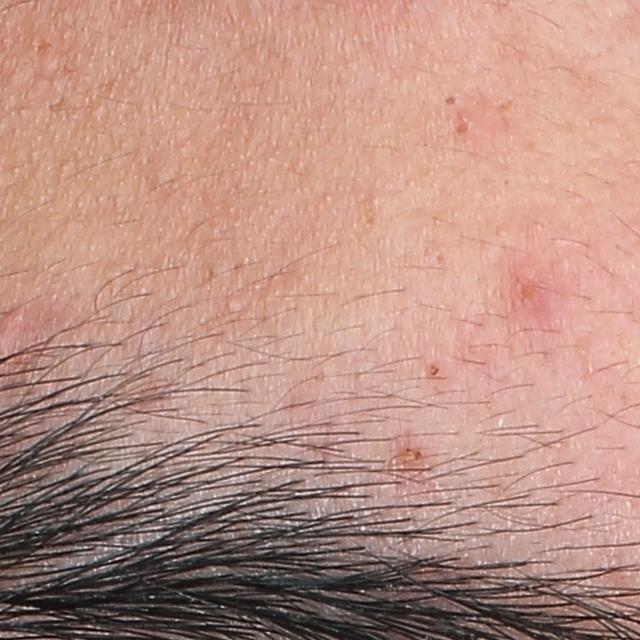comedo: (448, 115, 477, 142), (423, 361, 447, 383), (224, 294, 245, 313)
